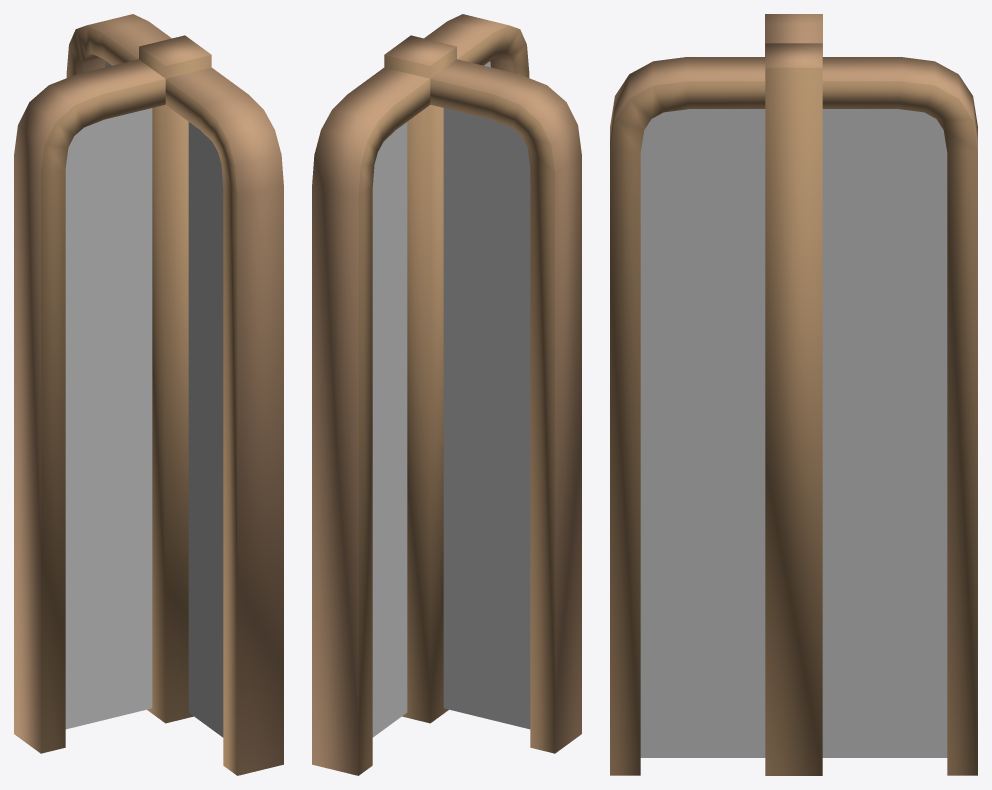
Rendered from Home_B_RF_33_05_SM.fbx.
3 views of the same model, side by side, from view 1: azimuth 30°, elevation 25°; view 2: azimuth 150°, elevation 25°; view 3: azimuth 270°, elevation 25° (orthographic). The views are drawn at different scales.
Visible parts, largest first — view 1: Home_B_RF_33_05, Home_B_RF_33_05_P; view 2: Home_B_RF_33_05, Home_B_RF_33_05_P; view 3: Home_B_RF_33_05_P, Home_B_RF_33_05.
Boxes of the visible parts, x1,y1,x2,y2 form: Home_B_RF_33_05: (14,14,283,775); Home_B_RF_33_05_P: (65,61,223,737); Home_B_RF_33_05: (312,14,581,775); Home_B_RF_33_05_P: (372,61,530,737); Home_B_RF_33_05_P: (640,109,947,757); Home_B_RF_33_05: (610,14,977,775).
Size of the model in its own units: 55.54 by 204 by 96.
